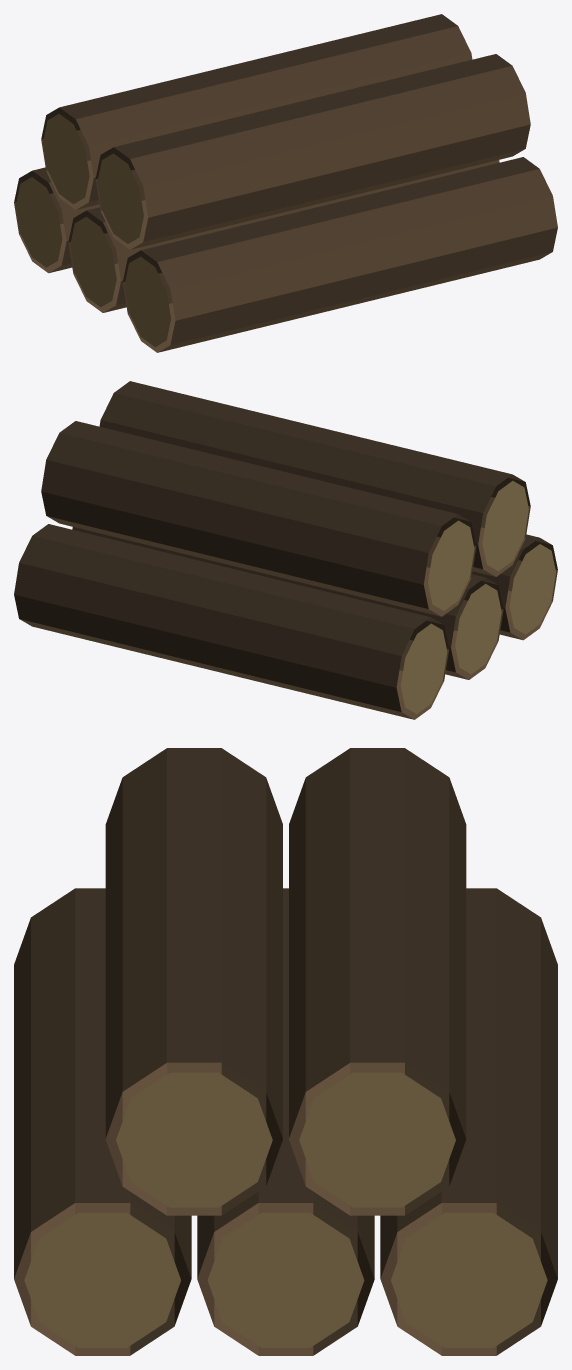
The picture shows the model from 3 angles, top to bottom: view 1: azimuth 30°, elevation 25°; view 2: azimuth 150°, elevation 25°; view 3: azimuth 270°, elevation 25°; orthographic projection. The views are drawn at different scales.
Visible parts, largest first — view 1: 83e5a6a3f74bb52e0941c7554d8fc3b25c22fece9c551fd9d79cea58daef; view 2: 83e5a6a3f74bb52e0941c7554d8fc3b25c22fece9c551fd9d79cea58daef; view 3: 83e5a6a3f74bb52e0941c7554d8fc3b25c22fece9c551fd9d79cea58daef.
Boxes of the visible parts, left/top/right/bottom form: 83e5a6a3f74bb52e0941c7554d8fc3b25c22fece9c551fd9d79cea58daef: left=14, top=14, right=557, bottom=352; 83e5a6a3f74bb52e0941c7554d8fc3b25c22fece9c551fd9d79cea58daef: left=14, top=381, right=557, bottom=719; 83e5a6a3f74bb52e0941c7554d8fc3b25c22fece9c551fd9d79cea58daef: left=14, top=748, right=557, bottom=1355.
Bounding box in the file's own units: 1.31 × 0.5648 × 0.95.
